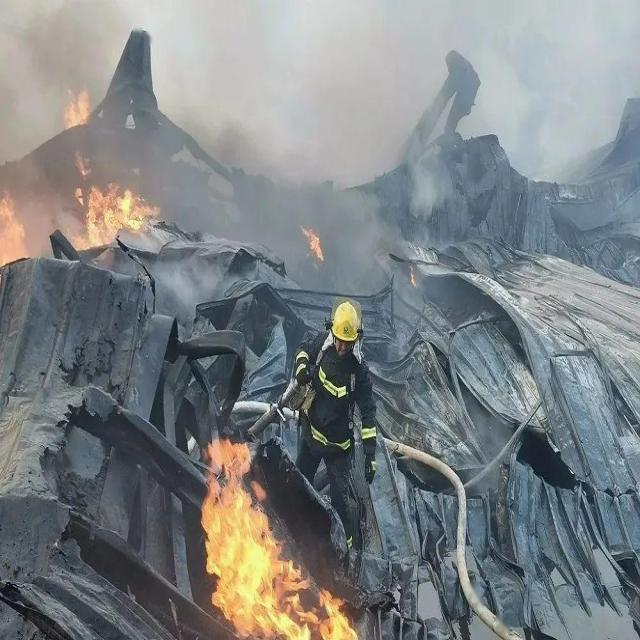Fire: (202, 437, 356, 640), (88, 180, 154, 240), (0, 192, 27, 264)
